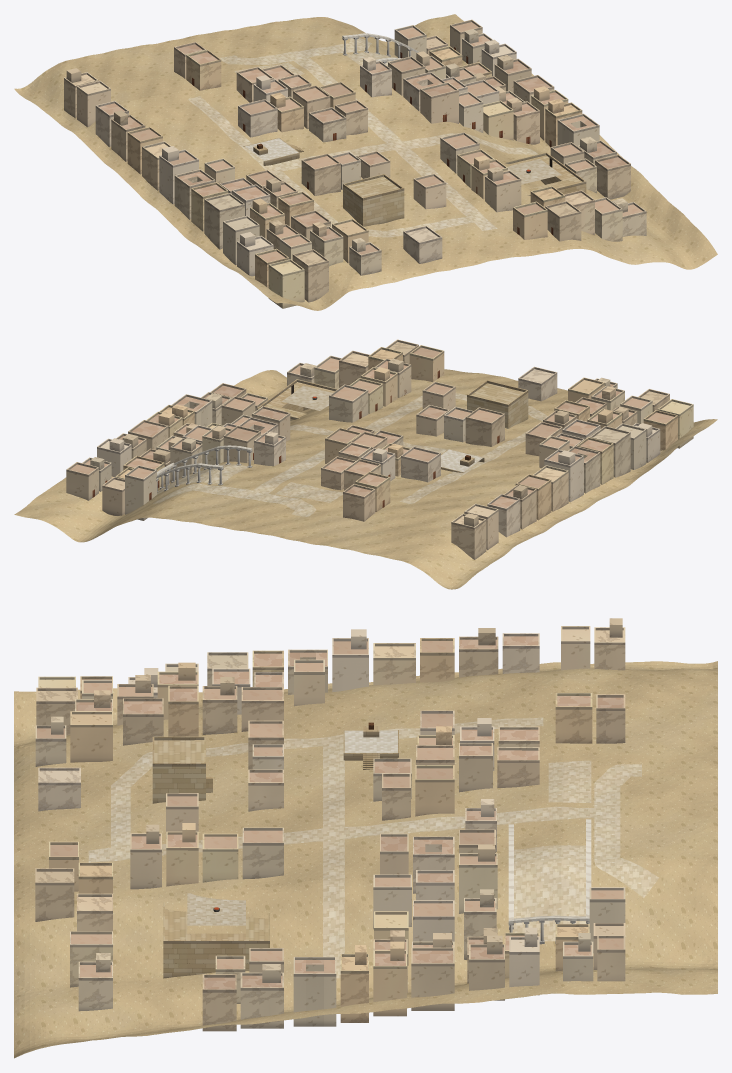
The model's file is cidade_cenario.glb.
The picture shows the model from 3 angles, top to bottom: view 1: azimuth 30°, elevation 25°; view 2: azimuth 150°, elevation 25°; view 3: azimuth 270°, elevation 25°; orthographic projection. The views are drawn at different scales.
Visible parts, largest first — view 1: Cidade_Chao_Fase, Cidade_Ruas, Bloco_06, Bloco_23, Bloco_37, Bloco_05, Bloco_04, Bloco_44, Bloco_03, Bloco_13, Casa_Cenaculo, Bloco_41 (+30 smaller); view 2: Cidade_Chao_Fase, Cidade_Ruas, Bloco_04, Bloco_06, Bloco_03, Bloco_42, Bloco_18, Bloco_05, Bloco_00, Casa_Cenaculo, Bloco_32, Bloco_14 (+30 smaller); view 3: Cidade_Chao_Fase, Cidade_Ruas, Casa_SumoSacerdote, Bloco_37, Bloco_23, Bloco_52, Bloco_41, Bloco_51, Bloco_53, Bloco_13, Bloco_03, Bloco_32 (+30 smaller).
Part boxes in pixels (x1,y1,x2,y2): Cidade_Chao_Fase: (14, 14, 717, 310); Cidade_Ruas: (188, 37, 538, 237); Bloco_06: (255, 233, 328, 308); Bloco_23: (293, 81, 367, 142); Bloco_37: (403, 72, 483, 132); Bloco_05: (223, 198, 299, 276); Bloco_04: (191, 177, 270, 249); Bloco_44: (464, 79, 539, 144); Bloco_03: (159, 146, 234, 219); Bloco_13: (310, 219, 381, 275); Casa_Cenaculo: (343, 174, 404, 226); Bloco_41: (530, 186, 594, 241); Cidade_Chao_Fase: (14, 369, 717, 589); Cidade_Ruas: (153, 393, 547, 516); Bloco_04: (556, 419, 630, 484); Bloco_06: (620, 389, 693, 450); Bloco_03: (539, 436, 600, 502); Bloco_42: (102, 465, 156, 520); Bloco_18: (444, 406, 504, 446); Bloco_05: (587, 406, 660, 469); Bloco_00: (451, 503, 498, 559); Casa_Cenaculo: (467, 380, 528, 428); Bloco_32: (329, 378, 382, 422); Bloco_14: (343, 472, 390, 521); Cidade_Chao_Fase: (14, 661, 717, 1058); Cidade_Ruas: (88, 717, 658, 978); Casa_SumoSacerdote: (163, 893, 269, 978); Bloco_37: (373, 833, 454, 929); Bloco_23: (373, 745, 454, 820); Bloco_52: (293, 945, 368, 1026); Bloco_41: (35, 862, 112, 931); Bloco_51: (373, 941, 454, 1016); Bloco_53: (202, 964, 283, 1031); Bloco_13: (35, 690, 112, 766); Bloco_03: (288, 629, 368, 706); Bloco_32: (202, 827, 283, 882).
Size of the model in its own units: 128 by 36.03 by 132.
12 materials, 11 textured.
